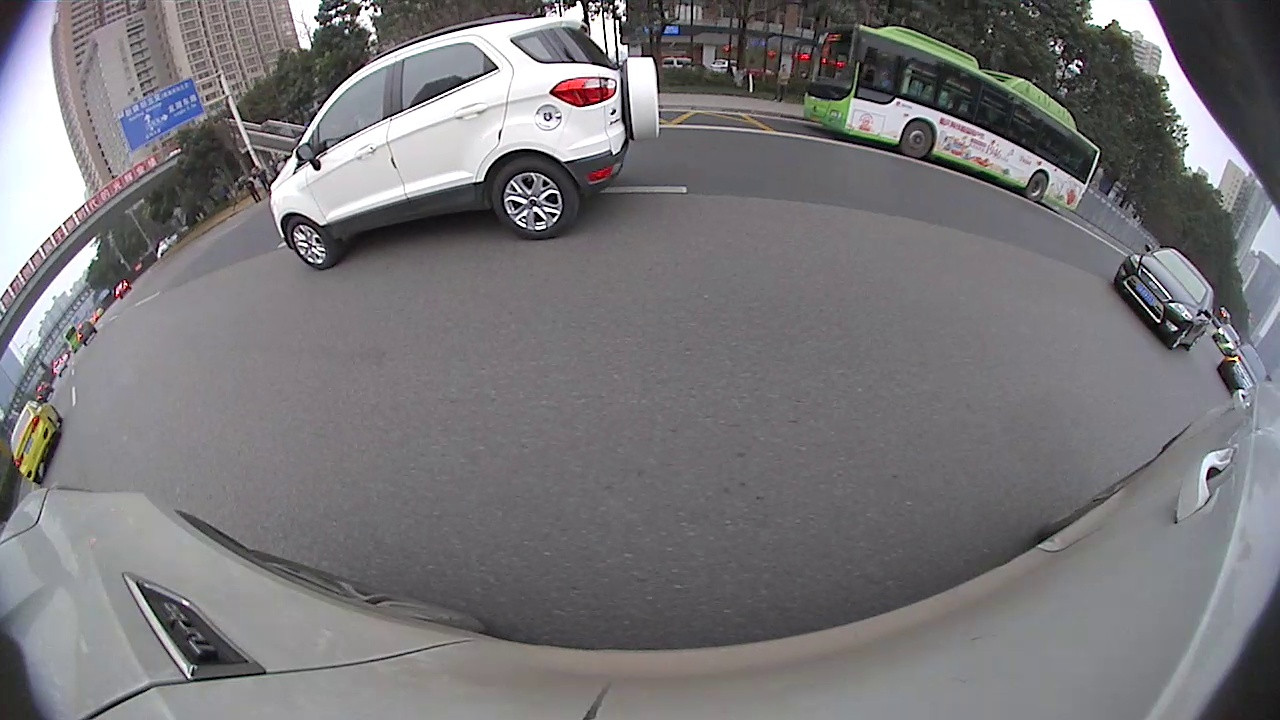bus: (803, 23, 1102, 218)
car: (268, 17, 659, 272), (1113, 247, 1215, 354), (9, 399, 64, 484), (1217, 342, 1271, 395)
front: (281, 220, 339, 268), (903, 120, 933, 154)
rear: (487, 162, 579, 237), (1026, 172, 1048, 198)
